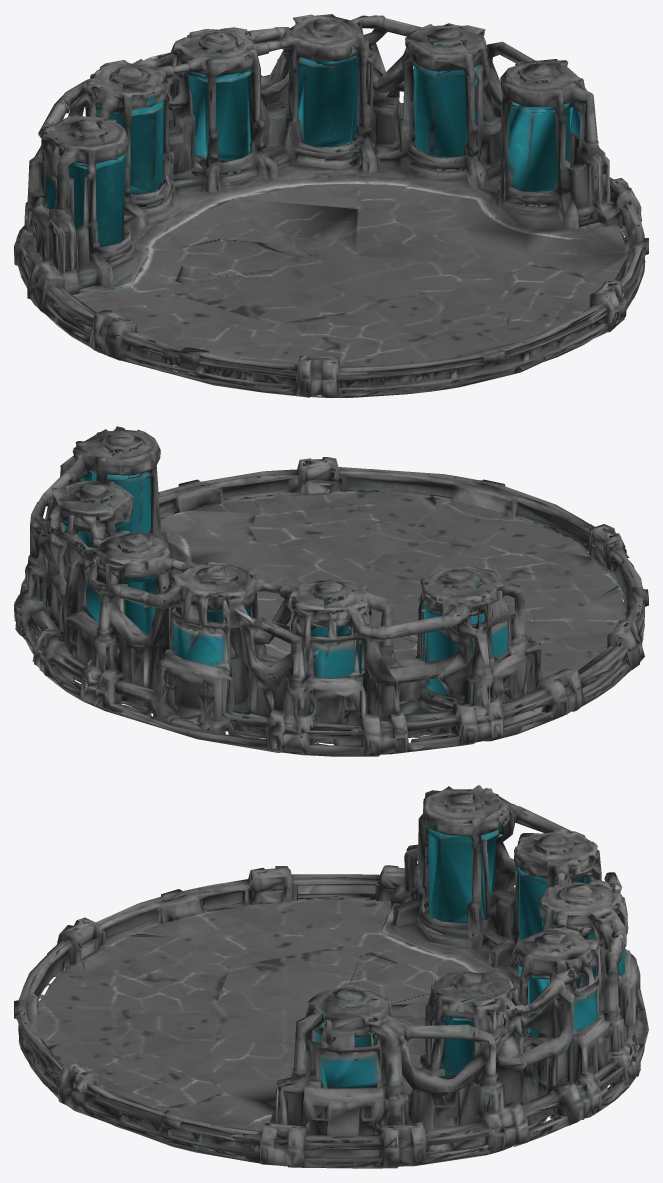
The model's file is arena.glb.
3 views of the same model, one above another, from view 1: azimuth 30°, elevation 25°; view 2: azimuth 150°, elevation 25°; view 3: azimuth 270°, elevation 25° (orthographic). The views are drawn at different scales.
Parts seen in each view (by area): view 1: world; view 2: world; view 3: world.
Boxes of the visible parts, x1=… form: world: x1=14, y1=14, x2=648, y2=397; world: x1=14, y1=426, x2=648, y2=756; world: x1=14, y1=785, x2=648, y2=1168.
Bounding box in the file's own units: 0.9995 × 0.2498 × 0.9829.
1 material, 1 textured.
